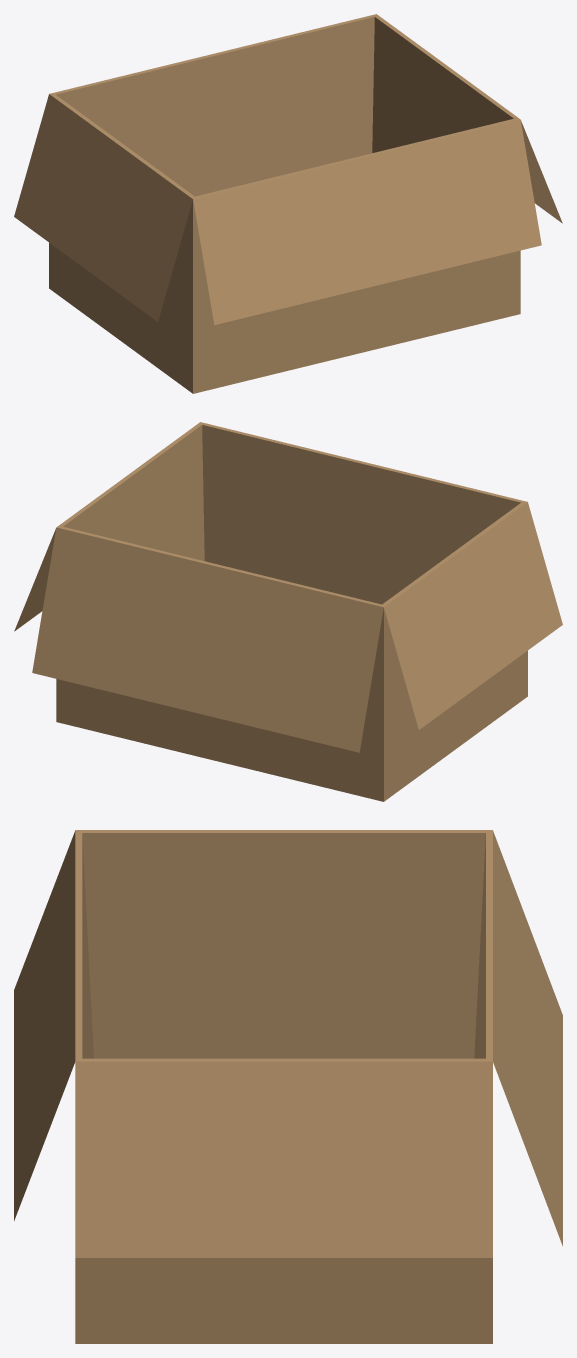
3 views of the same model, one above another, from view 1: azimuth 30°, elevation 25°; view 2: azimuth 150°, elevation 25°; view 3: azimuth 270°, elevation 25° (orthographic). The views are drawn at different scales.
Parts seen in each view (by area): view 1: CardboardBox; view 2: CardboardBox; view 3: CardboardBox.
Boxes of the visible parts, bbox=[...] form: CardboardBox: bbox=[14, 14, 562, 393]; CardboardBox: bbox=[14, 422, 562, 801]; CardboardBox: bbox=[14, 830, 562, 1343].
Size of the model in its own units: 51.53 by 23.67 by 41.75.
